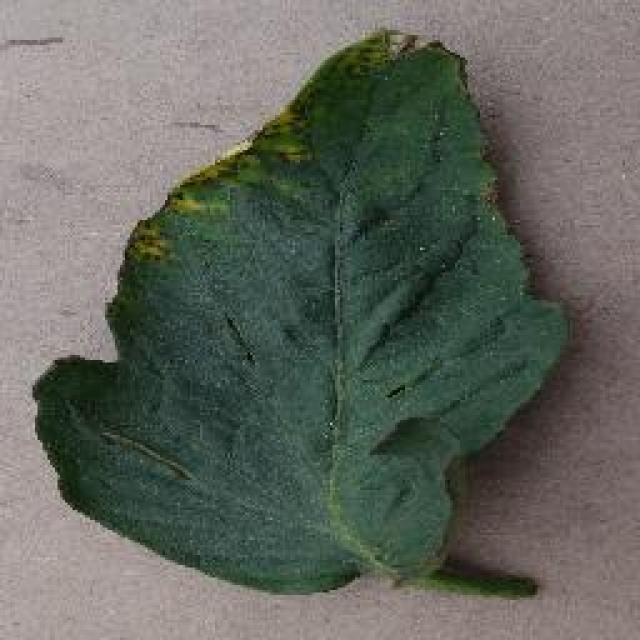Tomato___Bacterial_spot: (25, 25, 579, 606)
